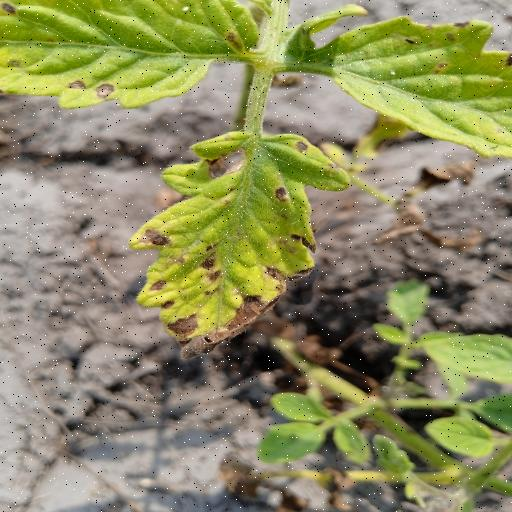Tomato_Brown_Spots: (120, 126, 358, 365), (279, 5, 512, 163), (0, 0, 262, 112)
